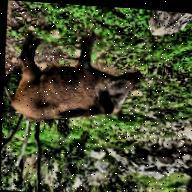boar: (2, 9, 159, 144)
